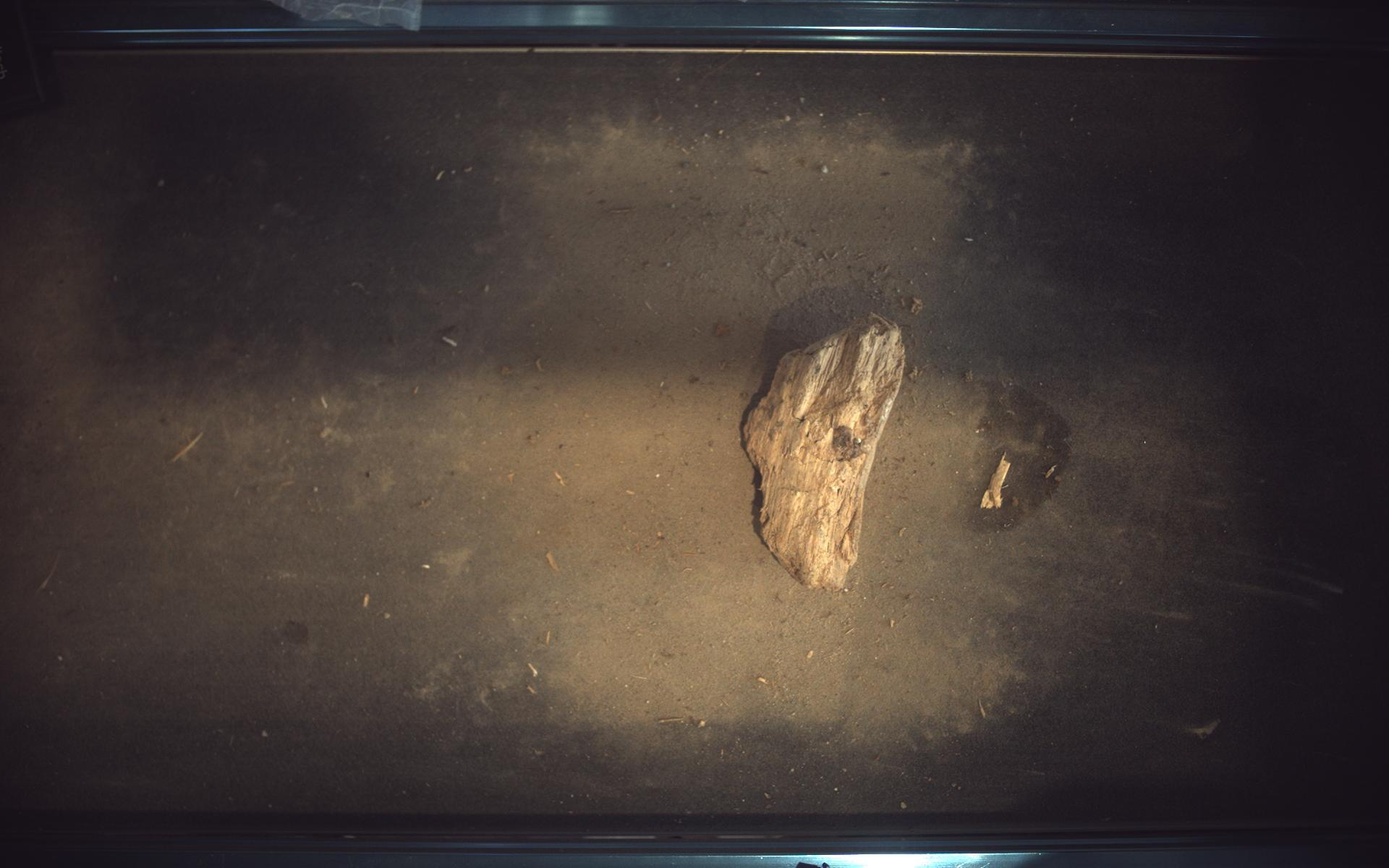wood: (744, 313, 907, 591)
